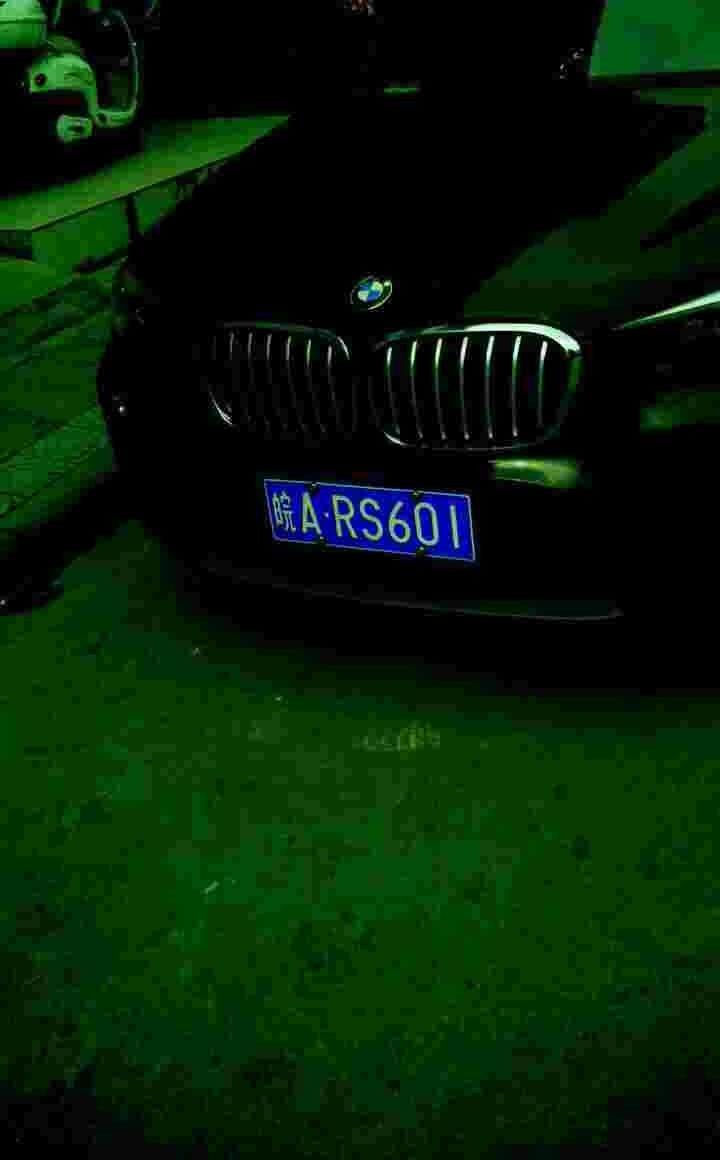plate: (261, 473, 481, 565)
